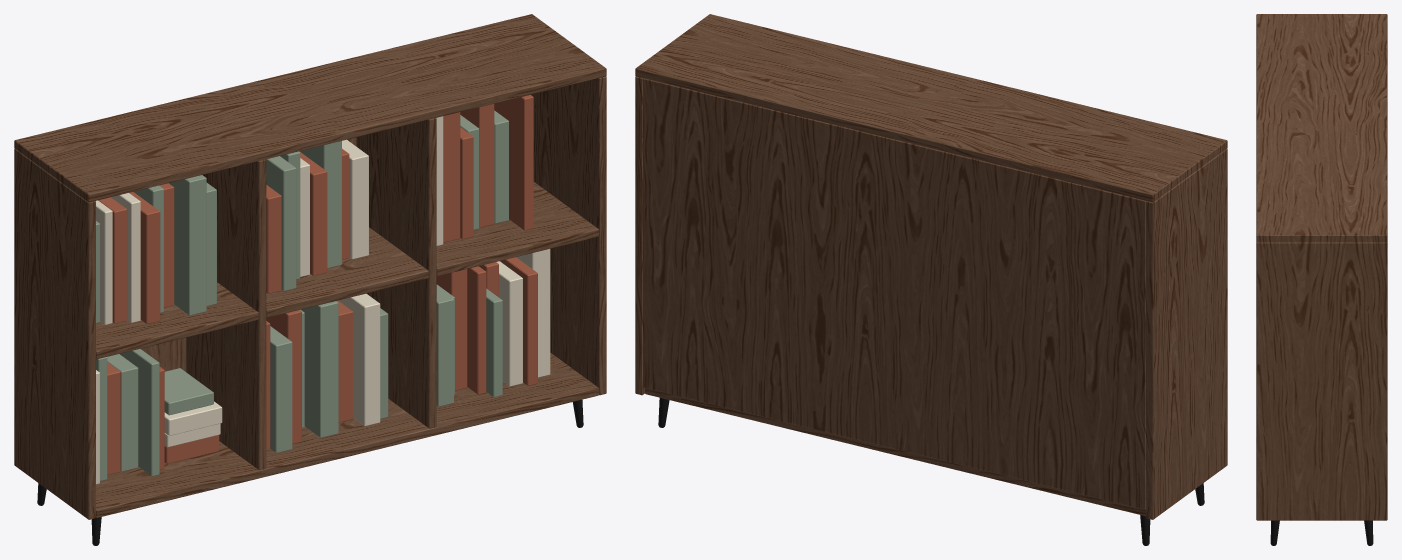
The model's file is libreria_baja_120.glb.
The picture shows the model from 3 angles, left to right: view 1: azimuth 30°, elevation 25°; view 2: azimuth 150°, elevation 25°; view 3: azimuth 270°, elevation 25°; orthographic projection. The views are drawn at different scales.
Parts seen in each view (by area): view 1: libreria_baja_120; view 2: libreria_baja_120; view 3: libreria_baja_120.
Boxes of the visible parts, x1=… form: libreria_baja_120: x1=14, y1=14, x2=606, y2=545; libreria_baja_120: x1=635, y1=14, x2=1227, y2=545; libreria_baja_120: x1=1256, y1=14, x2=1387, y2=545.
Size of the model in its own units: 1.2 by 0.8003 by 0.3.
Materials: 5 (1 with a texture image).
